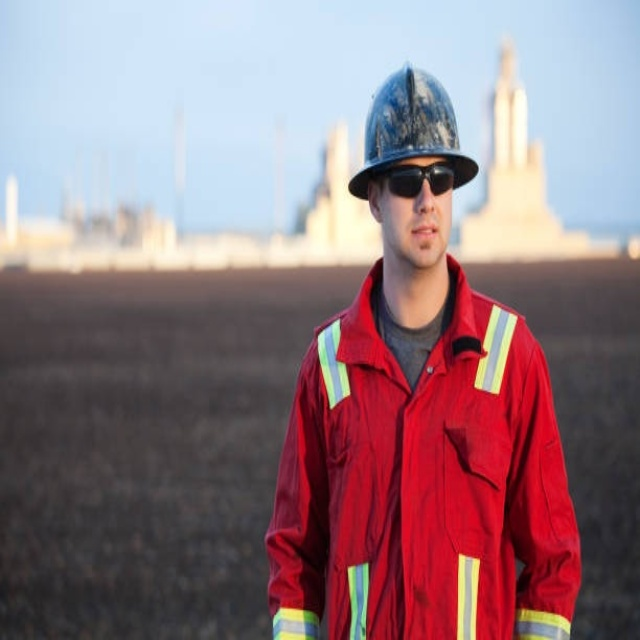Gafas: (380, 162, 456, 198)
Sin_mascara: (407, 218, 444, 262)
